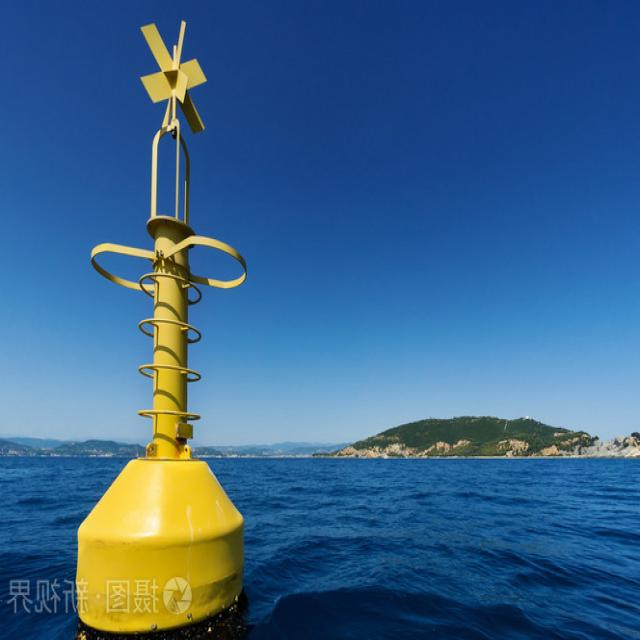buoy: (69, 13, 251, 627)
